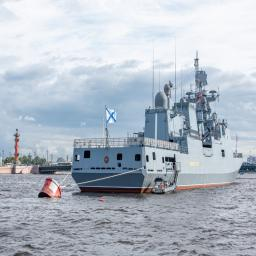Fragata: (71, 47, 245, 196)
